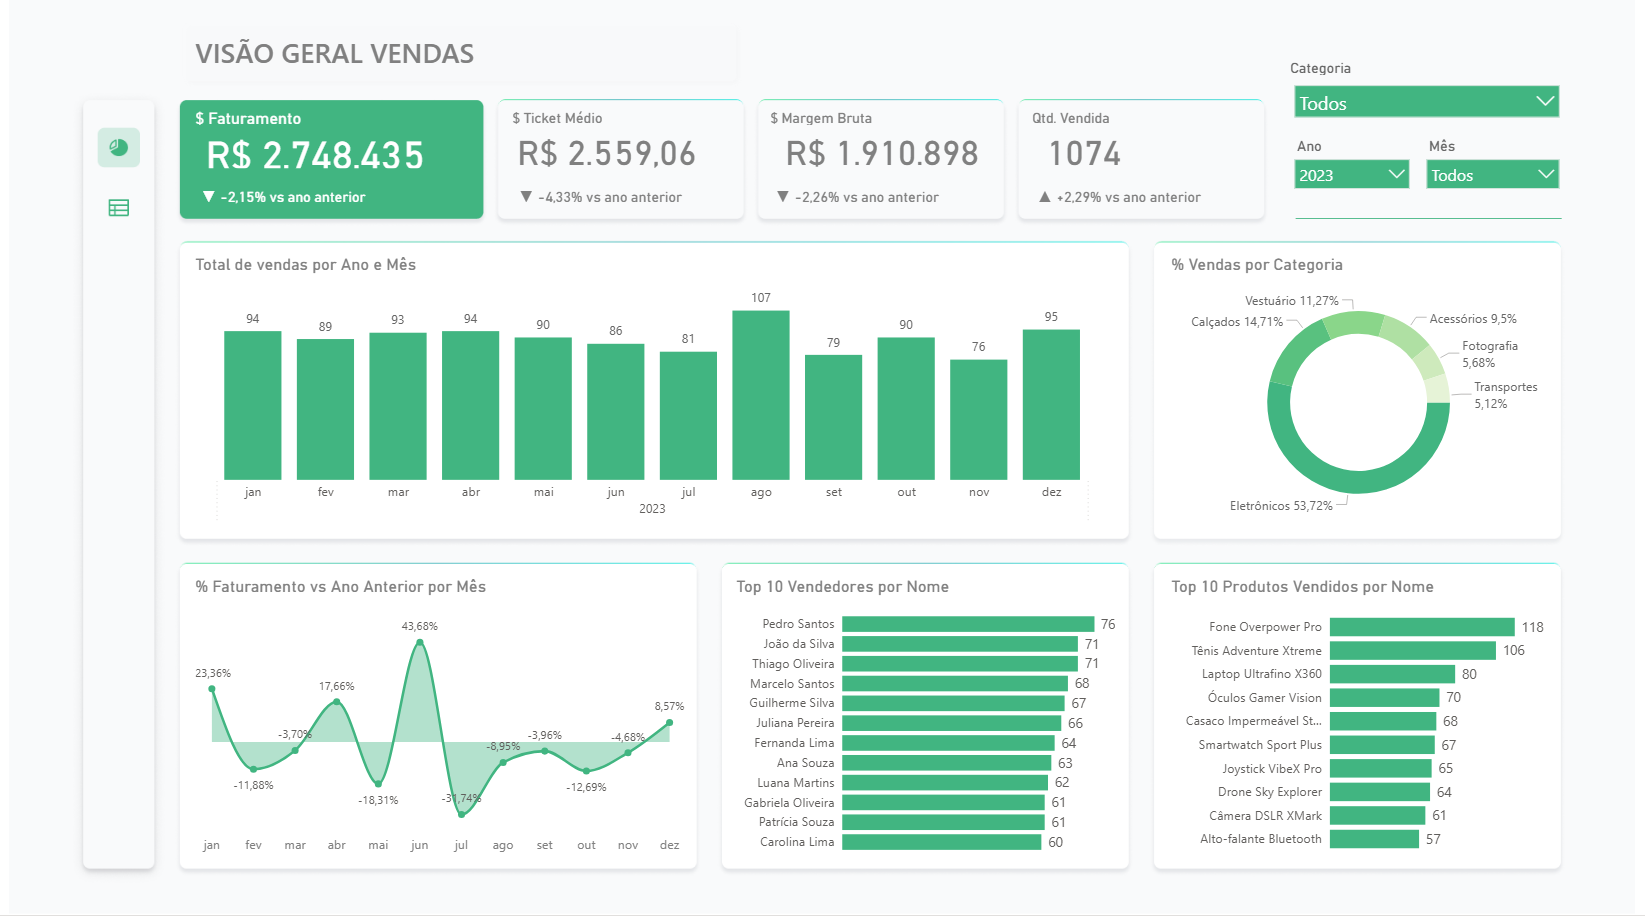

Layout of this report page (visuals, bound fields, positions):
{"tool":"powerbi","page":{"name":"Principal","canvas":[1920,1080],"ordinal":0},"visuals":[{"type":"slicer","title":"Ano","fields":{"Values":["D_Calendario.Ano"]},"box":[1520,176,142.6,80],"z":0,"group":"g1"},{"type":"clusteredBarChart","fields":{"Category":["dProduto.Nome"],"Y":["Medidas.Top 10 Produtos Vendidos"]},"box":[1376,688,432,320],"z":0},{"type":"slicer","title":"Mês","fields":{"Values":["D_Calendario.Mês"]},"box":[1662.6,176,161.4,80],"z":1000,"group":"g1"},{"type":"donutChart","title":"% Vendas por Categoria","fields":{"Y":["Medidas.Nº de vendas"],"Category":["dProduto.Categoria"]},"box":[1360,304,464,320],"z":1000},{"type":"slicer","title":"Categoria","fields":{"Values":["dProduto.Categoria"]},"box":[1520,96,304,80],"z":2000},{"type":"group","id":"g1","title":"Grupo 1","box":[1520,176,304,80],"z":3000},{"type":"lineStackedColumnComboChart","fields":{"Category":["D_Calendario.Ano","D_Calendario.Mês Abr"],"Y":["Medidas.Total de vendas"]},"box":[224,304,1072,320],"z":4000},{"type":"card","title":"$ Faturamento","fields":{"Values":["Medidas.Faturamento"]},"box":[208,128,288,96],"z":5000},{"type":"card","fields":{"Values":["Medidas.% Fat YoY (texto)"]},"box":[208,224,224,32],"z":6000},{"type":"areaChart","title":"% Faturamento vs Ano Anterior por Mês","fields":{"Category":["D_Calendario.Mês Abr","D_Calendario.Ano"],"Y":["Medidas.% Fat YoY"]},"box":[224,688,560,320],"z":7000},{"type":"barChart","fields":{"Y":["Medidas.Top 10 Vendedores"],"Category":["dFuncionario.Nome"]},"box":[864,688,432,320],"z":8000},{"type":"card","title":"$ Ticket Médio","fields":{"Values":["Medidas.Ticket Medio"]},"box":[584,128,224,96],"z":9000},{"type":"card","fields":{"Values":["Medidas.% Ticket Médio YoY (texto)"]},"box":[584,224,208,32],"z":10000},{"type":"card","title":"$ Margem Bruta","fields":{"Values":["Medidas.Margem Bruta"]},"box":[896,128,224,96],"z":11000},{"type":"card","title":"Qtd. Vendida","fields":{"Values":["Medidas.Total de vendas"]},"box":[1200,128,128,96],"z":12000},{"type":"card","fields":{"Values":["Medidas.% Margem Bruta YoY (texto)"]},"box":[896,224,224,32],"z":13000},{"type":"card","fields":{"Values":["Medidas.% Qtd. Vendida YoY (texto)"]},"box":[1200,224,224,32],"z":14000},{"type":"actionButton","box":[96,480,80,48],"z":15000},{"type":"actionButton","box":[96,992,80,48],"z":16000}]}

Visuals, with their boxes in screenshot pixels (x1, y1, x2, y2), scaled from the page's 1920x1080 canvas onto the 1645x916 screenshot:
"Ano" slicer: (1302,149,1424,217)
clusteredBarChart - dProduto.Nome x Medidas.Top 10 Produtos Vendidos: (1179,584,1549,855)
"Mês" slicer: (1424,149,1563,217)
"% Vendas por Categoria" donutChart: (1165,258,1563,529)
"Categoria" slicer: (1302,81,1563,149)
"Grupo 1" group: (1302,149,1563,217)
lineStackedColumnComboChart - D_Calendario.Ano x D_Calendario.Mês Abr: (192,258,1110,529)
"$ Faturamento" card: (178,109,425,190)
card - Medidas.% Fat YoY (texto): (178,190,370,217)
"% Faturamento vs Ano Anterior por Mês" areaChart: (192,584,672,855)
barChart - Medidas.Top 10 Vendedores x dFuncionario.Nome: (740,584,1110,855)
"$ Ticket Médio" card: (500,109,692,190)
card - Medidas.% Ticket Médio YoY (texto): (500,190,679,217)
"$ Margem Bruta" card: (768,109,960,190)
"Qtd. Vendida" card: (1028,109,1138,190)
card - Medidas.% Margem Bruta YoY (texto): (768,190,960,217)
card - Medidas.% Qtd. Vendida YoY (texto): (1028,190,1220,217)
actionButton: (82,407,151,448)
actionButton: (82,841,151,882)
